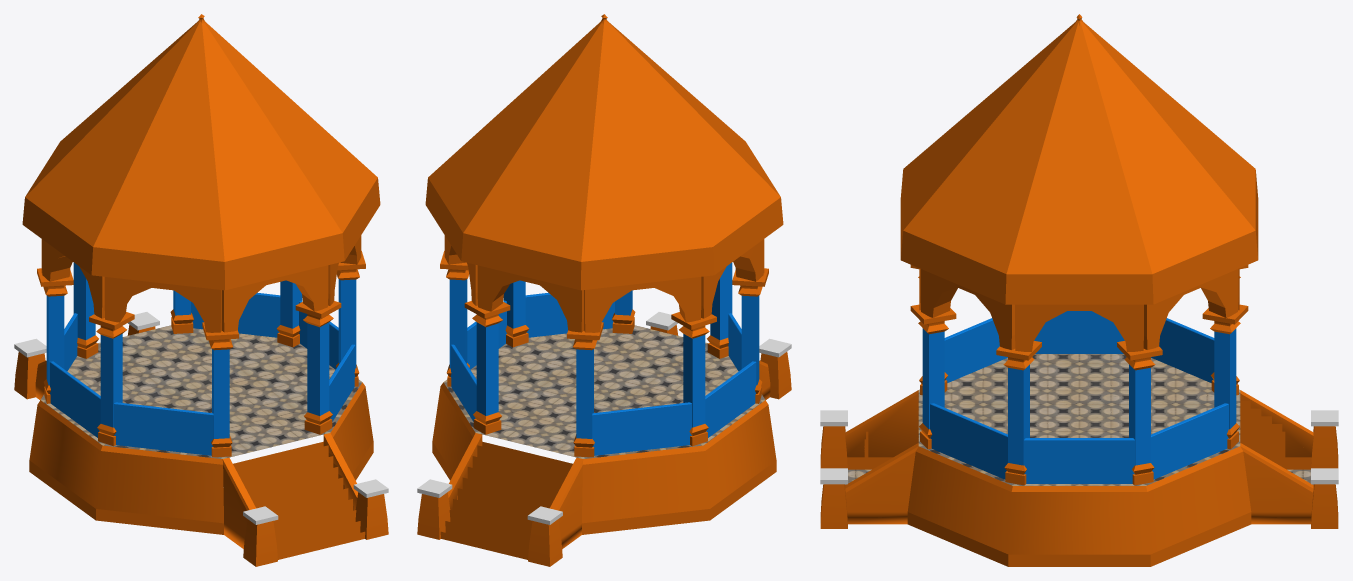
File: gazebo_collisionSetup.fbx
3 renders of one model, left to right at view 1: azimuth 30°, elevation 25°; view 2: azimuth 150°, elevation 25°; view 3: azimuth 270°, elevation 25°, orthographic. The views are drawn at different scales.
Visible parts, largest first — view 1: collisionConvex, collisionConvex.234, collisionConvex.314, collisionConvex.322, collisionConvex.313, collisionConvex.231, collisionConvex.308, collisionConvex.311, collisionConvex.301, collisionConvex.309, collisionCube.120, collisionCube.117 (+24 smaller); view 2: collisionConvex, collisionConvex.234, collisionConvex.312, collisionConvex.322, collisionConvex.313, collisionConvex.305, collisionConvex.307, collisionConvex.232, collisionConvex.237, collisionConvex.306, collisionCube.114, collisionCube.129 (+24 smaller); view 3: collisionConvex, collisionConvex.322, collisionConvex.234, collisionConvex.310, collisionConvex.297, collisionConvex.299, collisionConvex.232, collisionConvex.311, collisionConvex.301, collisionConvex.313, collisionConvex.312, collisionConvex.314 (+15 smaller).
Part boxes in pixels (bbox=[...]): collisionConvex: bbox=[22, 20, 380, 290]; collisionConvex.234: bbox=[29, 325, 362, 534]; collisionConvex.314: bbox=[114, 402, 213, 455]; collisionConvex.322: bbox=[330, 382, 373, 480]; collisionConvex.313: bbox=[49, 361, 100, 437]; collisionConvex.231: bbox=[307, 322, 329, 415]; collisionConvex.308: bbox=[100, 334, 122, 427]; collisionConvex.311: bbox=[191, 292, 280, 337]; collisionConvex.301: bbox=[222, 457, 256, 549]; collisionConvex.309: bbox=[212, 349, 229, 438]; collisionCube.120: bbox=[244, 463, 338, 499]; collisionCube.117: bbox=[233, 441, 328, 478]; collisionConvex: bbox=[425, 20, 783, 290]; collisionConvex.234: bbox=[443, 325, 776, 534]; collisionConvex.312: bbox=[592, 402, 691, 455]; collisionConvex.322: bbox=[432, 382, 475, 480]; collisionConvex.313: bbox=[705, 361, 756, 437]; collisionConvex.305: bbox=[476, 322, 498, 415]; collisionConvex.307: bbox=[683, 334, 705, 427]; collisionConvex.232: bbox=[525, 292, 614, 337]; collisionConvex.237: bbox=[549, 457, 583, 549]; collisionConvex.306: bbox=[576, 349, 593, 438]; collisionCube.114: bbox=[477, 441, 572, 478]; collisionCube.129: bbox=[462, 474, 556, 508]; collisionConvex: bbox=[900, 22, 1258, 304]; collisionConvex.322: bbox=[907, 446, 1251, 566]; collisionConvex.234: bbox=[918, 354, 1240, 485]; collisionConvex.310: bbox=[1024, 438, 1134, 483]; collisionConvex.297: bbox=[1240, 443, 1313, 524]; collisionConvex.299: bbox=[845, 443, 918, 524]; collisionConvex.232: bbox=[930, 403, 1007, 479]; collisionConvex.311: bbox=[1151, 403, 1228, 479]; collisionConvex.301: bbox=[845, 390, 918, 457]; collisionConvex.313: bbox=[1034, 311, 1124, 353]; collisionConvex.312: bbox=[1151, 318, 1214, 382]; collisionConvex.314: bbox=[944, 318, 1007, 382].
Bounding box in the file's own units: 849 × 1259 × 1230.
